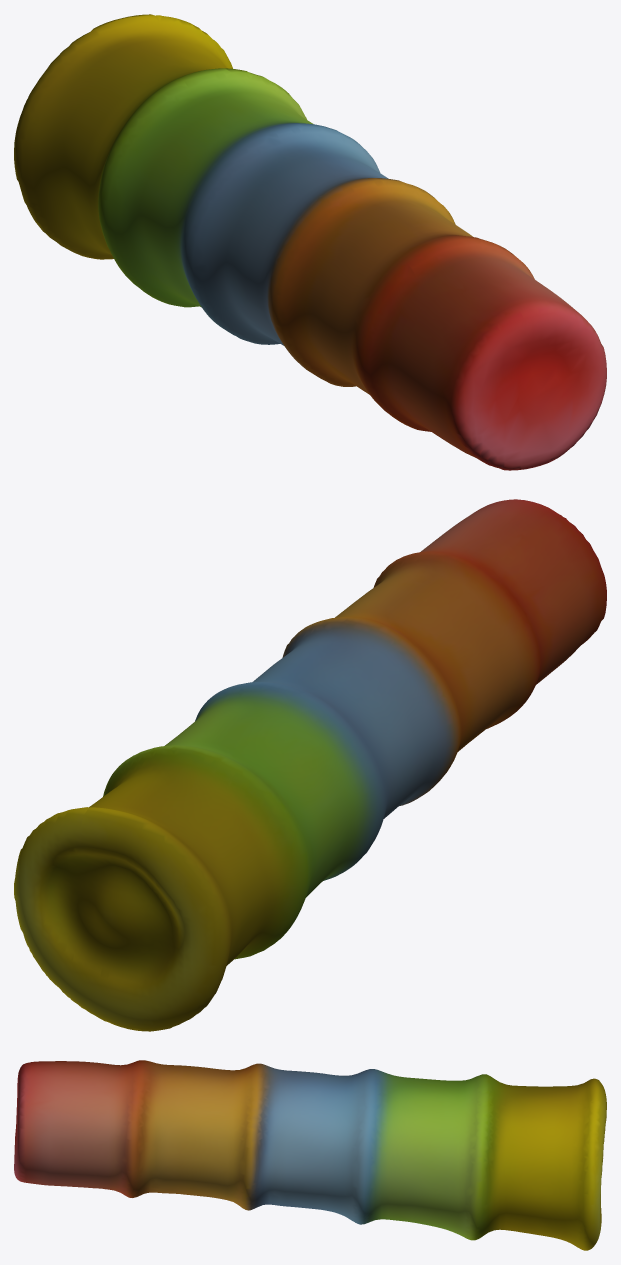
Rendered from stucking_cups.glb.
The picture shows the model from 3 angles, top to bottom: view 1: azimuth 30°, elevation 25°; view 2: azimuth 150°, elevation 25°; view 3: azimuth 270°, elevation 25°; orthographic projection. The views are drawn at different scales.
Size of the model in its own units: 0.2954 by 0.3237 by 0.9998.
